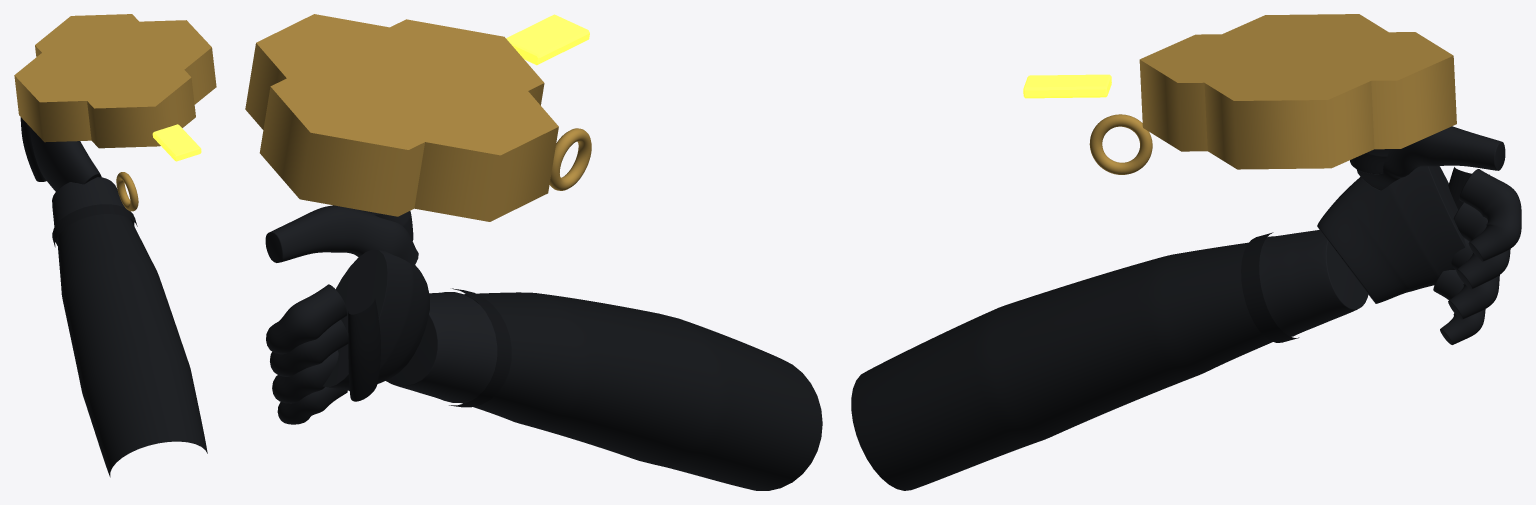
Rendered from hands_forge_magin.glb.
The picture shows the model from 3 angles, left to right: view 1: azimuth 30°, elevation 25°; view 2: azimuth 150°, elevation 25°; view 3: azimuth 270°, elevation 25°; orthographic projection. The views are drawn at different scales.
Visible parts, largest first — view 1: hand_l_forearm, hand_l_bolts, hand_l_palm, hand_l_cuff, hand_l_lamp, hand_l_cuff_strap, hand_l_tool_loop, hand_l_knuckle_panel; view 2: hand_l_bolts, hand_l_forearm, hand_l_cuff, hand_l_palm, hand_l_thumb, hand_l_index, hand_l_knuckle_panel, hand_l_lamp, hand_l_middle, hand_l_cuff_strap, hand_l_ring, hand_l_tool_loop (+1 smaller); view 3: hand_l_forearm, hand_l_bolts, hand_l_palm, hand_l_cuff, hand_l_thumb, hand_l_index, hand_l_cuff_strap, hand_l_middle, hand_l_lamp, hand_l_tool_loop, hand_l_ring, hand_l_little.
Boxes of the visible parts, left/top/right/bottom form: hand_l_forearm: left=57, top=214, right=207, bottom=477; hand_l_bolts: left=14, top=14, right=216, bottom=148; hand_l_palm: left=30, top=128, right=101, bottom=191; hand_l_cuff: left=52, top=177, right=134, bottom=245; hand_l_lamp: left=152, top=124, right=201, bottom=161; hand_l_cuff_strap: left=52, top=204, right=137, bottom=247; hand_l_tool_loop: left=116, top=172, right=138, bottom=211; hand_l_knuckle_panel: left=20, top=117, right=46, bottom=181; hand_l_bolts: left=245, top=14, right=558, bottom=221; hand_l_forearm: left=461, top=292, right=822, bottom=490; hand_l_cuff: left=386, top=292, right=497, bottom=402; hand_l_palm: left=323, top=249, right=429, bottom=390; hand_l_thumb: left=265, top=205, right=418, bottom=267; hand_l_index: left=266, top=284, right=347, bottom=354; hand_l_knuckle_panel: left=348, top=299, right=380, bottom=401; hand_l_lamp: left=506, top=14, right=589, bottom=65; hand_l_middle: left=270, top=320, right=348, bottom=376; hand_l_cuff_strap: left=449, top=288, right=511, bottom=407; hand_l_ring: left=272, top=350, right=338, bottom=403; hand_l_tool_loop: left=549, top=128, right=591, bottom=190; hand_l_forearm: left=851, top=242, right=1272, bottom=490; hand_l_bolts: left=1139, top=14, right=1456, bottom=169; hand_l_palm: left=1317, top=166, right=1466, bottom=303; hand_l_cuff: left=1259, top=230, right=1368, bottom=336; hand_l_thumb: left=1356, top=126, right=1505, bottom=190; hand_l_index: left=1459, top=169, right=1521, bottom=261; hand_l_cuff_strap: left=1241, top=232, right=1299, bottom=342; hand_l_middle: left=1453, top=202, right=1510, bottom=289; hand_l_lamp: left=1023, top=74, right=1111, bottom=98; hand_l_tool_loop: left=1089, top=114, right=1152, bottom=174; hand_l_ring: left=1448, top=238, right=1499, bottom=319; hand_l_little: left=1433, top=270, right=1485, bottom=344.
Size of the model in its own units: 0.183 by 0.2659 by 0.318.
